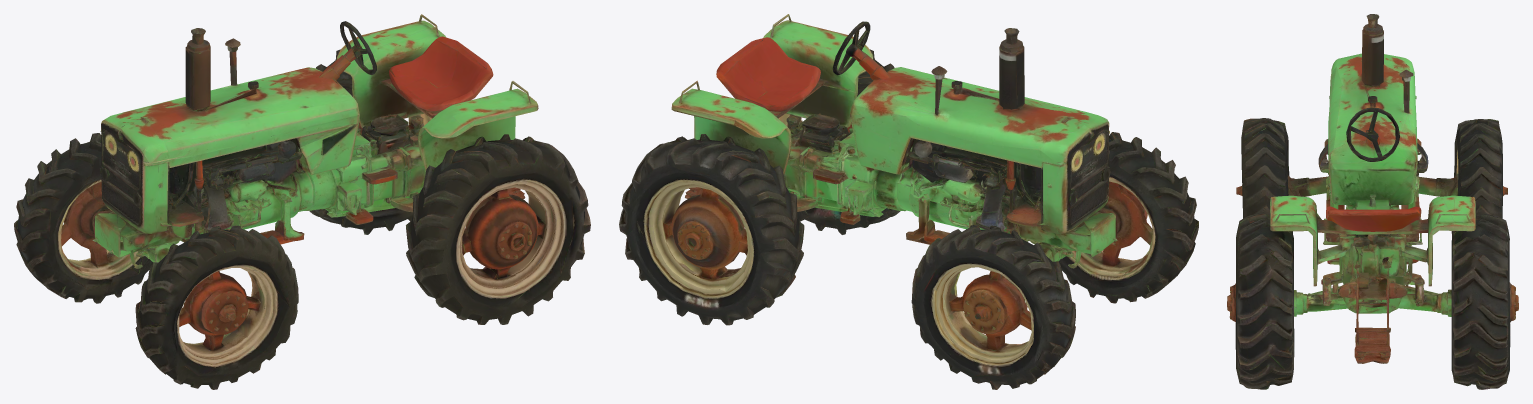
File: country-tractor.glb
The picture shows the model from 3 angles, left to right: view 1: azimuth 30°, elevation 25°; view 2: azimuth 150°, elevation 25°; view 3: azimuth 270°, elevation 25°; orthographic projection. The views are drawn at different scales.
Parts seen in each view (by area): view 1: country-tractor-Mesh_0.008; view 2: country-tractor-Mesh_0.008; view 3: country-tractor-Mesh_0.008.
Boxes of the visible parts, x1,y1,x2,y2 form: country-tractor-Mesh_0.008: (14,14,590,389); country-tractor-Mesh_0.008: (619,14,1198,389); country-tractor-Mesh_0.008: (1227,14,1518,389).
Size of the model in its own units: 3.6 by 2.33 by 2.34.
Materials: 1 (1 with a texture image).
